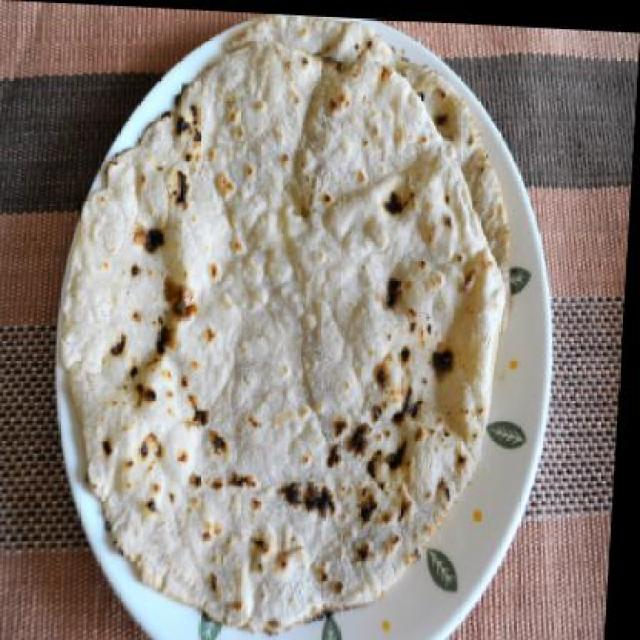chapati: (52, 3, 526, 640)
